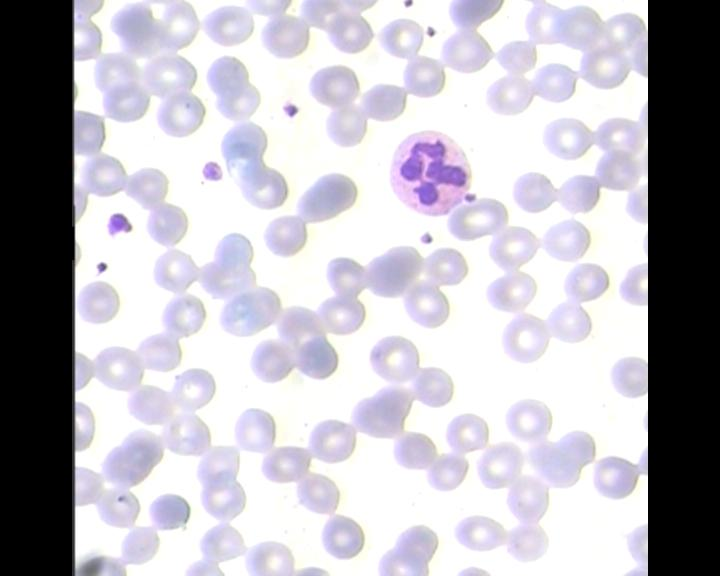neut: (386, 127, 473, 215)
